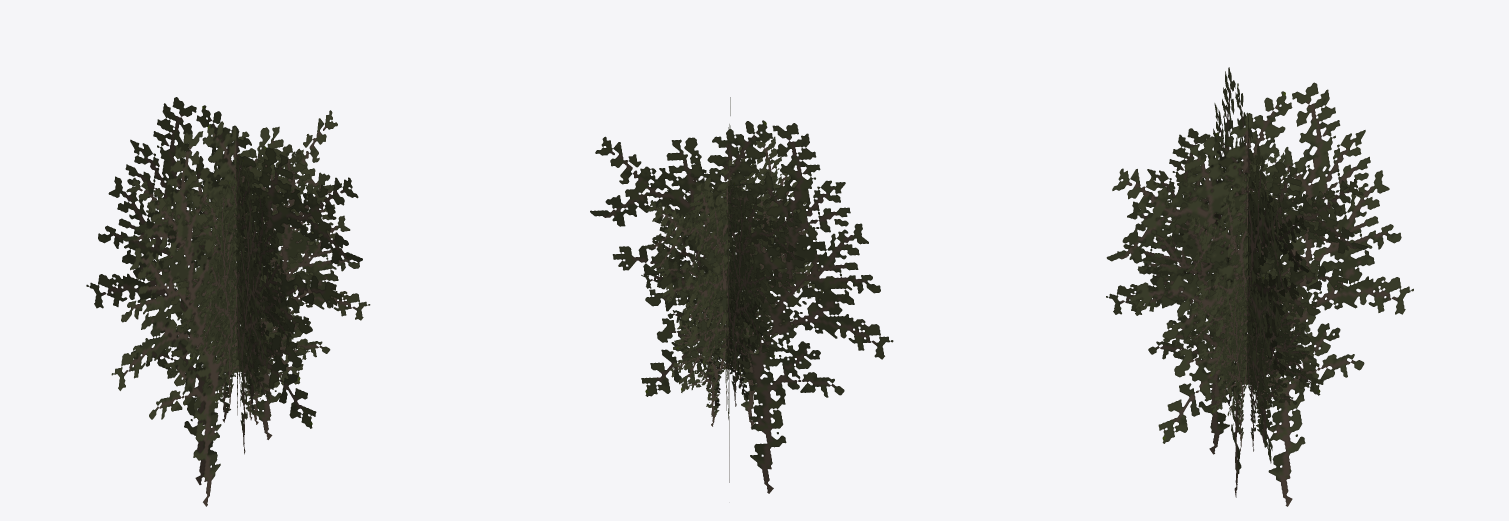
The model's file is Bush.fbx.
The picture shows the model from 3 angles, left to right: view 1: azimuth 30°, elevation 25°; view 2: azimuth 150°, elevation 25°; view 3: azimuth 270°, elevation 25°; orthographic projection. The views are drawn at different scales.
Visible parts, largest first — view 1: derevo1.010; view 2: derevo1.010; view 3: derevo1.010.
Part boxes in pixels (x1,y1,x2,y2): derevo1.010: (86,97,370,506); derevo1.010: (590,97,893,493); derevo1.010: (1106,67,1413,506).
Bounding box in the file's own units: 304 × 314 × 274.
